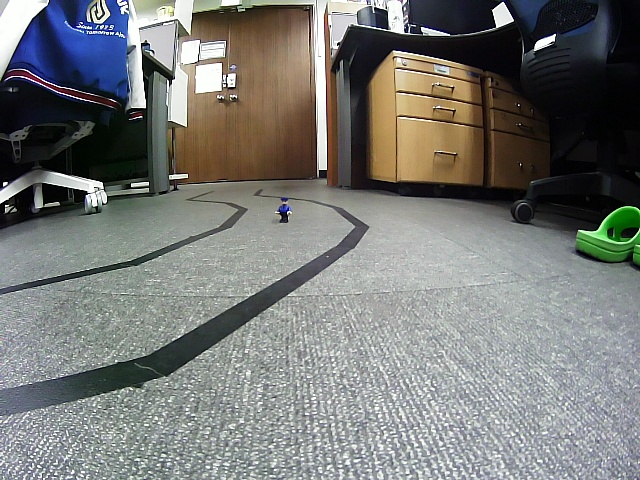person: (274, 198, 293, 225)
